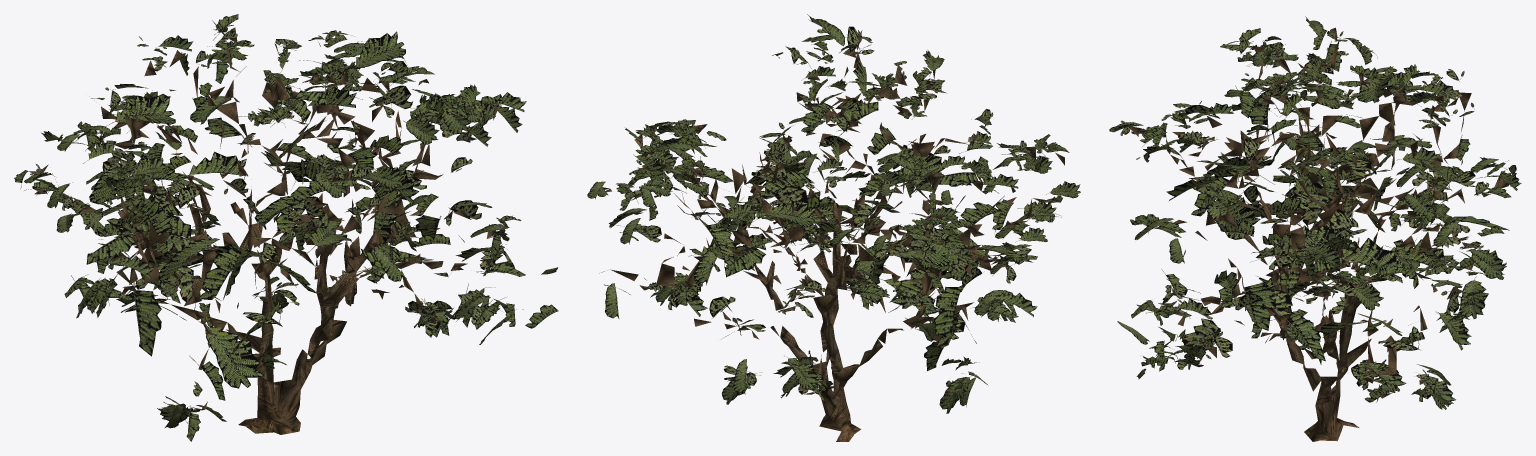
The model's file is jacaranda_tree_far.glb.
3 renders of one model, left to right at view 1: azimuth 30°, elevation 25°; view 2: azimuth 150°, elevation 25°; view 3: azimuth 270°, elevation 25°, orthographic. The views are drawn at different scales.
Parts seen in each view (by area): view 1: jacaranda_tree_LOD0; view 2: jacaranda_tree_LOD0; view 3: jacaranda_tree_LOD0.
Boxes of the visible parts, x1,y1,x2,y2 form: jacaranda_tree_LOD0: (14,14,558,441); jacaranda_tree_LOD0: (587,14,1080,441); jacaranda_tree_LOD0: (1109,16,1521,441).
Size of the model in its own units: 21.85 by 17 by 16.5.
3 materials, 3 textured.
